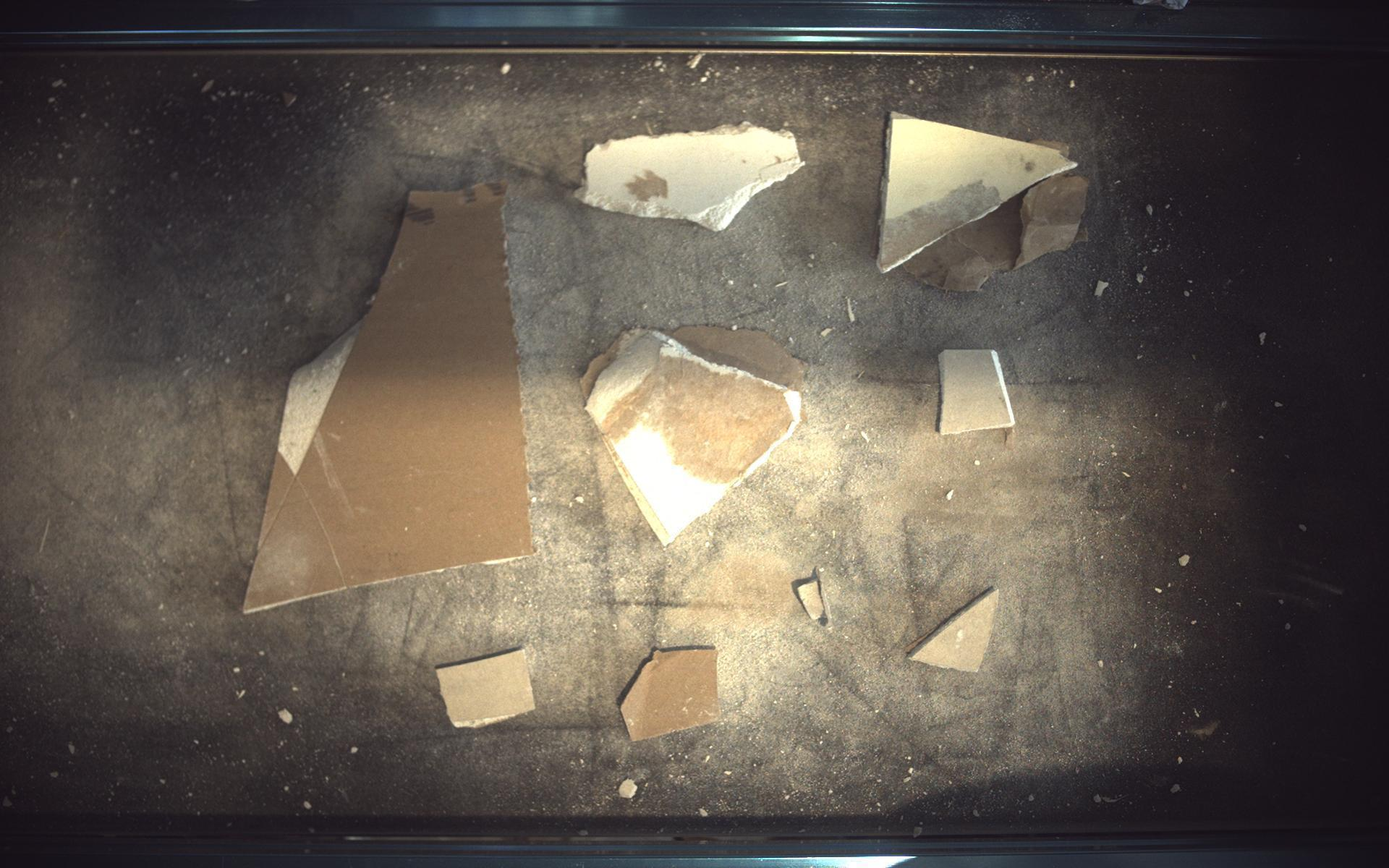gypsum_board: (243, 182, 533, 613), (582, 326, 806, 546), (880, 111, 1091, 291), (577, 121, 804, 230), (621, 650, 720, 742), (436, 650, 535, 729), (909, 588, 1001, 673), (941, 349, 1016, 435), (793, 568, 833, 629)
